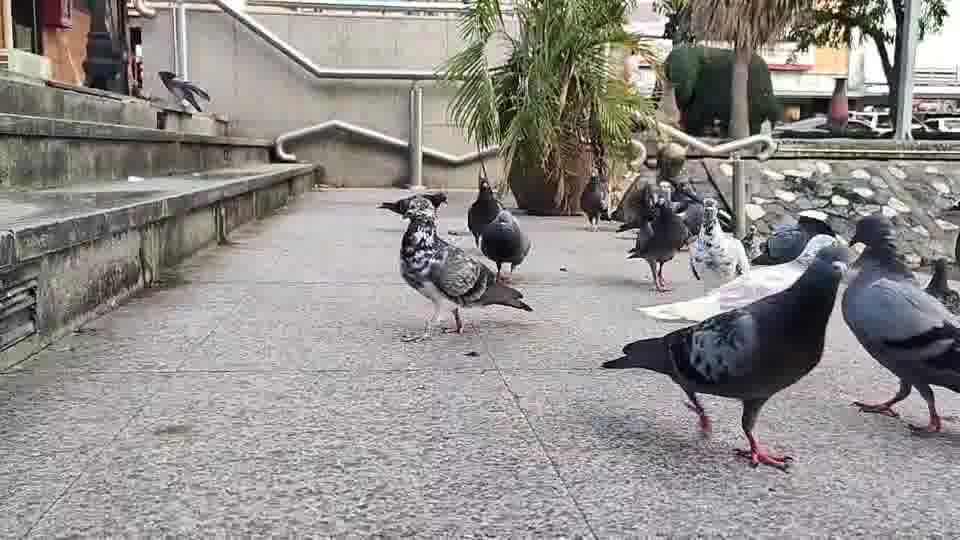Pigeon: (599, 244, 852, 471), (839, 214, 959, 433), (375, 189, 534, 340), (624, 194, 690, 293), (687, 199, 750, 294), (762, 209, 837, 264), (478, 208, 531, 282), (466, 176, 503, 247), (157, 69, 210, 113), (922, 256, 959, 314), (579, 173, 608, 232)
